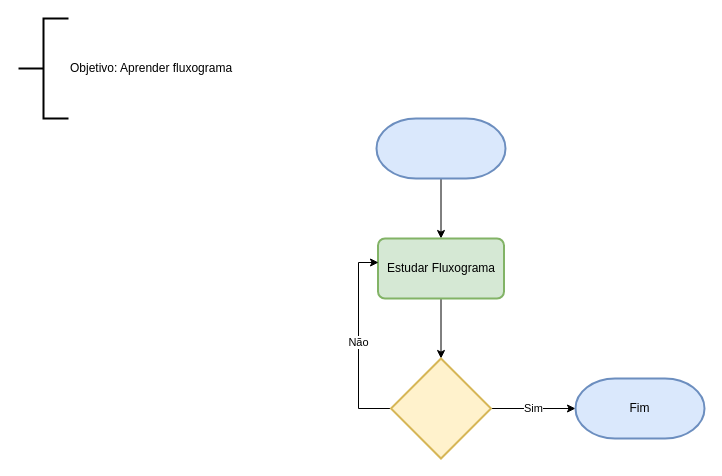
Some shapes in this 722 by 476 pixel diagram are drawn without their labels. Each missing label, with the centre of its shape:
"Aprendeu?" goes at (441,408).
"Inicio" goes at (440,148).
